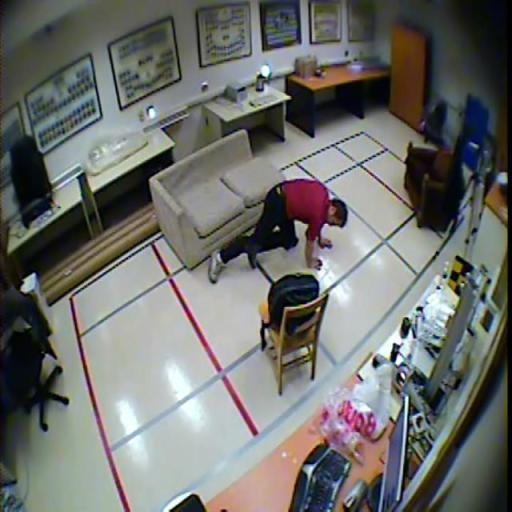Fall: (208, 177, 348, 284)
